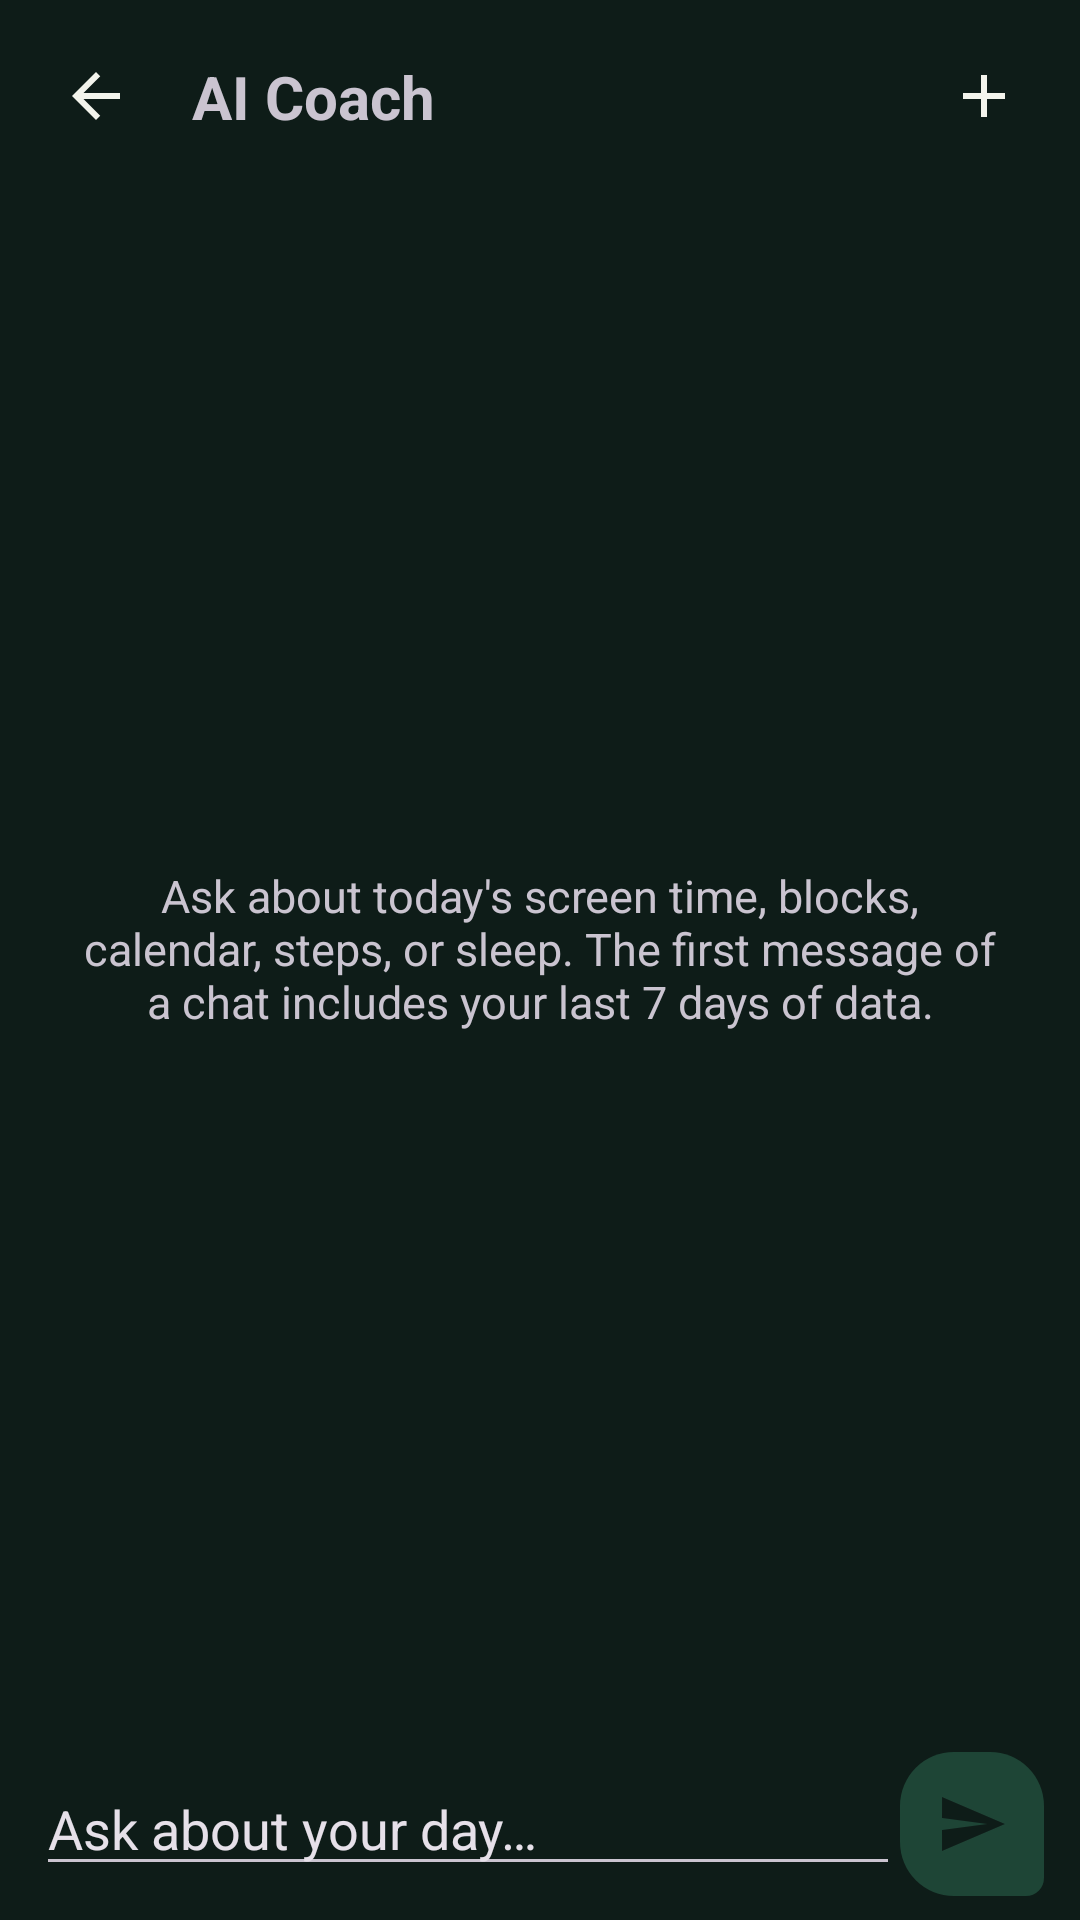

Named icons in this screenshot (1080x1920) and their bounding boxes, {"left": x1, "top": y1, "right": x2, "bottom": y2}:
Back: {"left": 72, "top": 72, "right": 120, "bottom": 120}
New chat: {"left": 963, "top": 75, "right": 1005, "bottom": 117}
Send: {"left": 900, "top": 1752, "right": 1044, "bottom": 1896}
